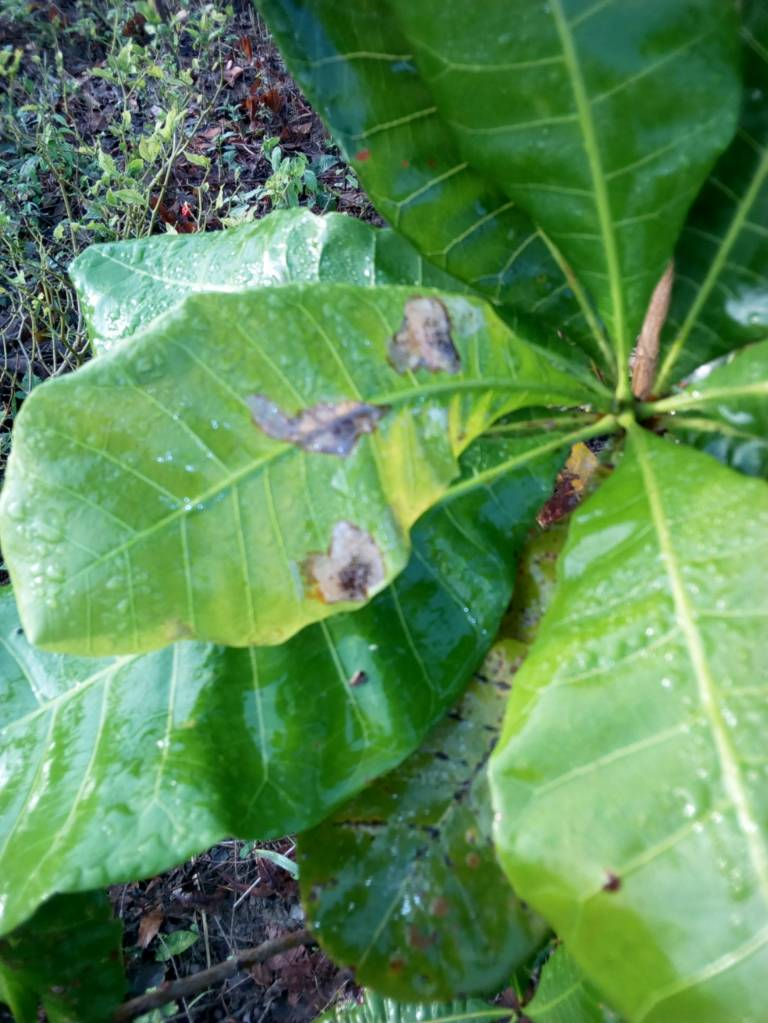Dysdercus wolkerii: (8, 271, 593, 669)
